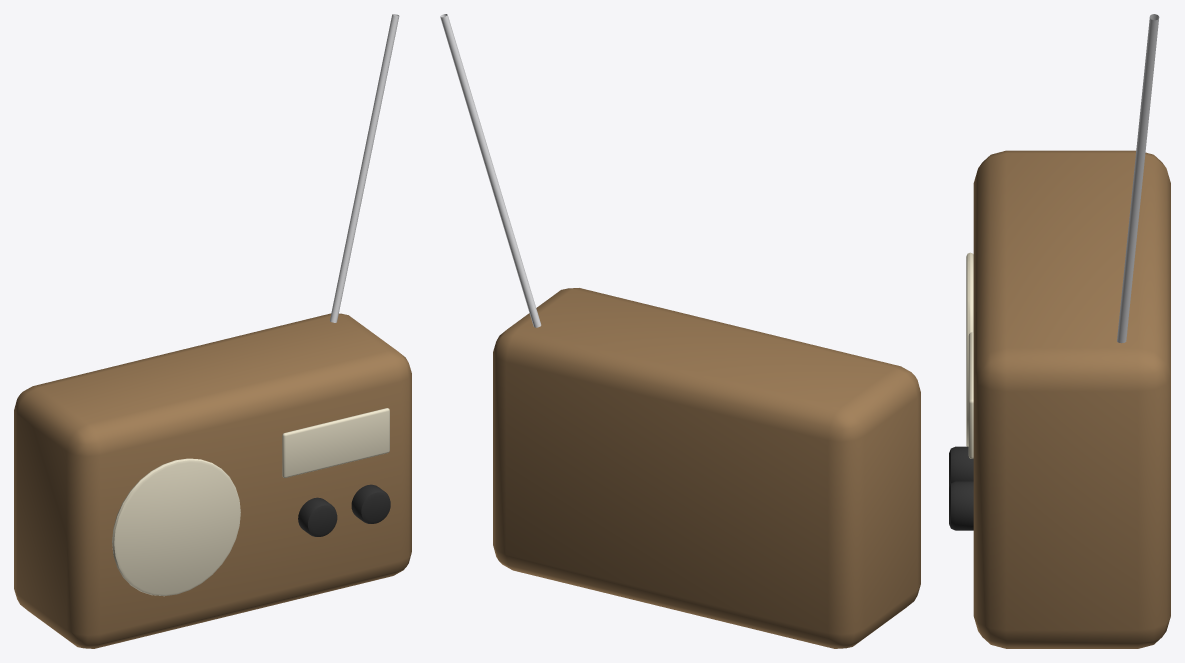
File: radio.glb
3 views of the same model, side by side, from view 1: azimuth 30°, elevation 25°; view 2: azimuth 150°, elevation 25°; view 3: azimuth 270°, elevation 25° (orthographic). The views are drawn at different scales.
Visible parts, largest first — view 1: case, speaker, dial, aerial, knob0.11, knob0.06; view 2: case, aerial; view 3: case, aerial, knob0.11, speaker, knob0.06, dial.
Part boxes in pixels (x1=…): case: x1=14, y1=313, x2=411, y2=648; speaker: x1=112, y1=458, x2=240, y2=596; dial: x1=282, y1=408, x2=389, y2=477; aerial: x1=330, y1=14, x2=399, y2=322; knob0.11: x1=351, y1=484, x2=390, y2=523; knob0.06: x1=298, y1=497, x2=337, y2=536; case: x1=493, y1=288, x2=920, y2=648; aerial: x1=440, y1=14, x2=541, y2=327; case: x1=973, y1=150, x2=1170, y2=648; aerial: x1=1117, y1=14, x2=1159, y2=343; knob0.11: x1=949, y1=481, x2=973, y2=530; speaker: x1=966, y1=252, x2=973, y2=446; knob0.06: x1=949, y1=446, x2=973, y2=487; dial: x1=968, y1=332, x2=973, y2=458.
Size of the model in its own units: 0.3629 by 0.4508 by 0.135.
